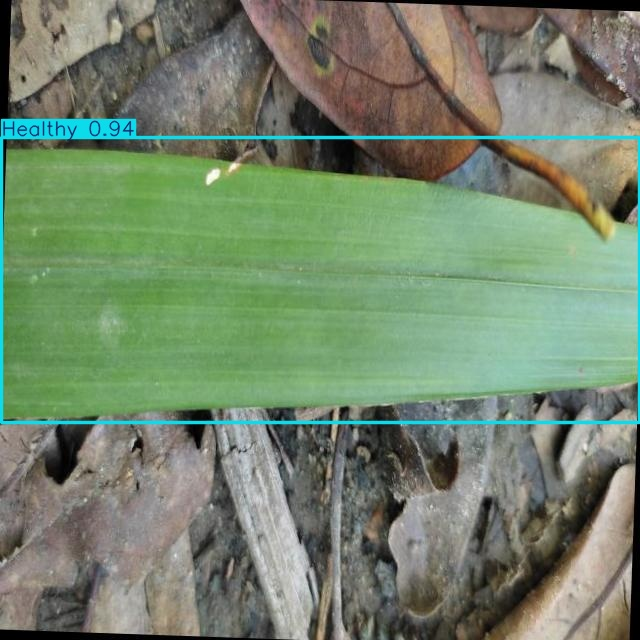Healthy: (1, 138, 639, 422)
